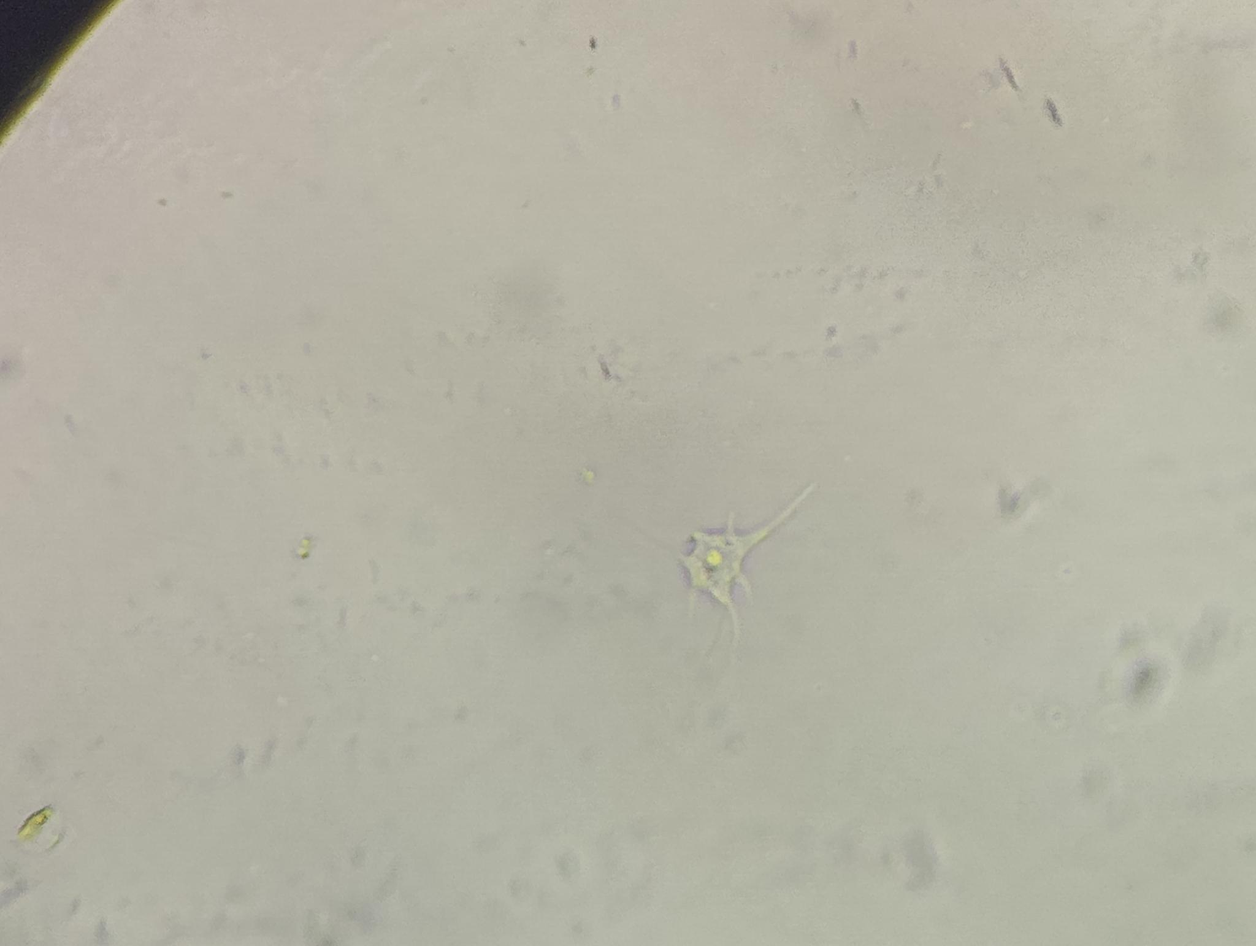Microcystis: (656, 471, 825, 666)
